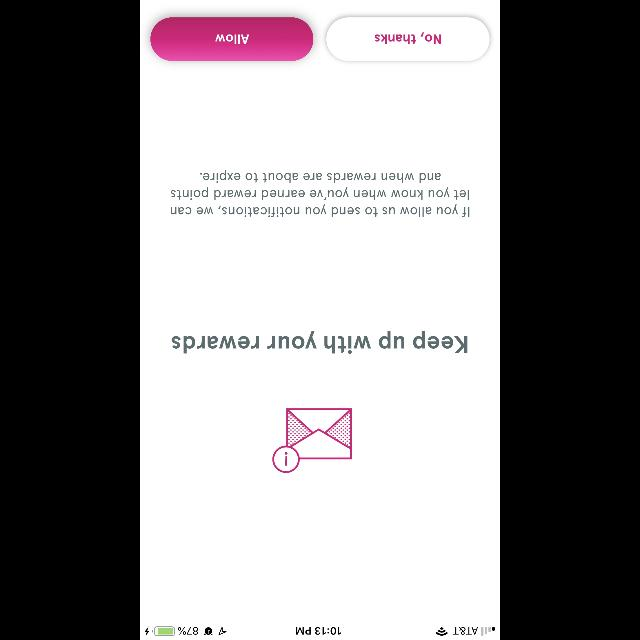image: (272, 408, 352, 474)
text: (170, 170, 470, 217), (172, 331, 468, 354)
textbutton: (150, 17, 314, 61), (326, 17, 490, 61)
uppertaskbar: (140, 626, 500, 640)
